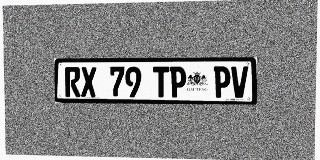7: (109, 67, 125, 97)
9: (125, 67, 141, 97)
P: (213, 66, 230, 98), (170, 66, 186, 98)
R: (65, 67, 80, 97)
T: (153, 67, 169, 97)
V: (231, 66, 248, 98)
X: (81, 67, 97, 97)
